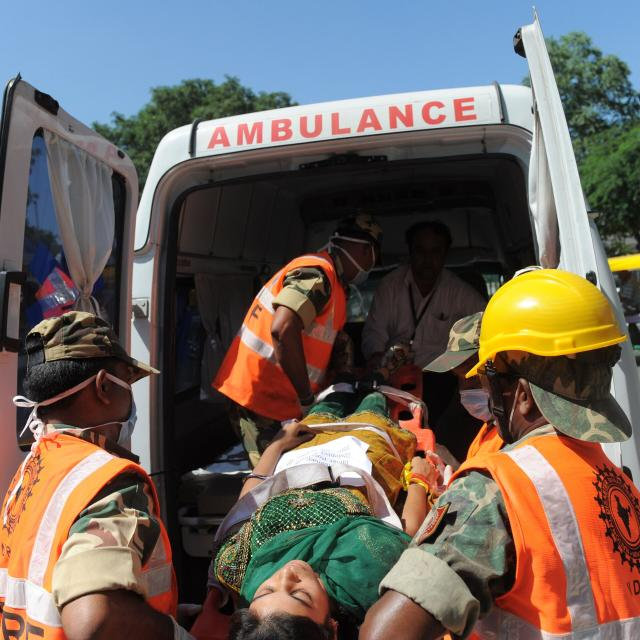emergency: (0, 15, 625, 601), (131, 85, 538, 602)
